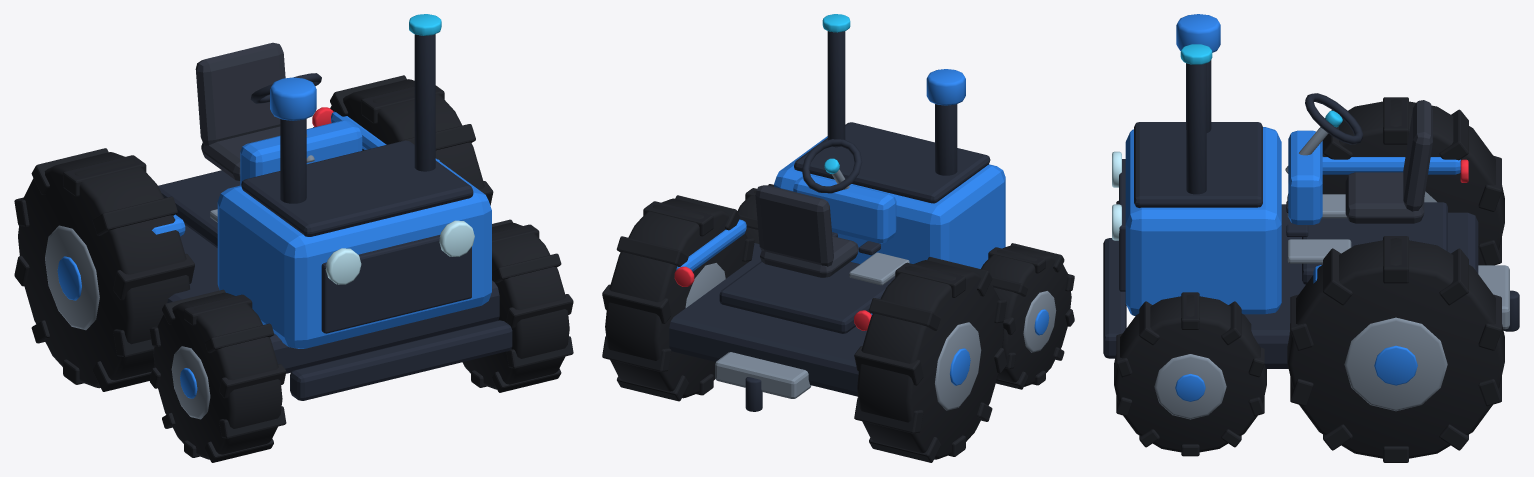
File: FTF_Vehicle_Tractor_BlueBlack_4m.glb
3 renders of one model, left to right at view 1: azimuth 30°, elevation 25°; view 2: azimuth 150°, elevation 25°; view 3: azimuth 270°, elevation 25°, orthographic. The views are drawn at different scales.
Visible parts, largest first — view 1: Wheel_Rear_L_Tire, Front_Hood_Blue, Wheel_Front_L_Tire, Hood_Top_Black, Front_Grille, Wheel_Front_R_Tire, Wheel_Rear_L, Front_Bumper, Seat_Back, Chassis_Black, Wheel_Front_L, Wheel_Rear_R_Tire (+14 smaller); view 2: Wheel_Rear_L_Tire, Wheel_Rear_R_Tire, Chassis_Black, Front_Hood_Blue, Hood_Top_Black, Driver_Floor, Wheel_Rear_L, Wheel_Front_L_Tire, Wheel_Rear_R, Seat_Back, Dashboard_Blue, Rear_Hitch (+14 smaller); view 3: Wheel_Rear_R_Tire, Front_Hood_Blue, Wheel_Front_R_Tire, Hood_Top_Black, Wheel_Rear_L_Tire, Wheel_Rear_R, Wheel_Rear_R_Hub, Chassis_Black, Wheel_Rear_L, Wheel_Front_R, Driver_Floor, Seat_Cushion (+16 smaller).
Part boxes in pixels (x1,y1,x2,y2): Wheel_Rear_L_Tire: [18, 152, 189, 388]; Front_Hood_Blue: [217, 158, 491, 348]; Wheel_Front_L_Tire: [153, 292, 282, 459]; Hood_Top_Black: [241, 140, 473, 236]; Front_Grille: [321, 235, 471, 333]; Wheel_Front_R_Tire: [462, 222, 569, 389]; Wheel_Rear_L: [14, 148, 194, 391]; Front_Bumper: [290, 320, 512, 400]; Seat_Back: [195, 42, 285, 145]; Chassis_Black: [167, 225, 499, 373]; Wheel_Front_L: [149, 289, 286, 462]; Wheel_Rear_R_Tire: [330, 79, 484, 189]; Wheel_Rear_L_Tire: [857, 260, 1003, 459]; Wheel_Rear_R_Tire: [605, 198, 749, 398]; Chassis_Black: [669, 243, 866, 396]; Front_Hood_Blue: [774, 136, 1005, 268]; Hood_Top_Black: [794, 122, 990, 203]; Driver_Floor: [719, 261, 895, 333]; Wheel_Rear_L: [854, 257, 1006, 462]; Wheel_Front_L_Tire: [981, 245, 1071, 386]; Wheel_Rear_R: [602, 195, 754, 401]; Seat_Back: [755, 185, 833, 266]; Dashboard_Blue: [793, 175, 896, 243]; Rear_Hitch: [715, 352, 811, 398]; Wheel_Rear_R_Tire: [1287, 238, 1504, 458]; Front_Hood_Blue: [1125, 127, 1281, 315]; Wheel_Front_R_Tire: [1114, 294, 1266, 452]; Hood_Top_Black: [1134, 122, 1262, 207]; Wheel_Rear_L_Tire: [1287, 99, 1504, 265]; Wheel_Rear_R: [1290, 236, 1501, 462]; Wheel_Rear_R_Hub: [1344, 317, 1447, 411]; Chassis_Black: [1244, 204, 1478, 368]; Wheel_Rear_L: [1323, 97, 1501, 265]; Wheel_Front_R: [1116, 292, 1264, 456]; Driver_Floor: [1302, 202, 1447, 284]; Seat_Cushion: [1345, 172, 1424, 223].
Size of the model in its own units: 4.06 by 3.94 by 4.13.
